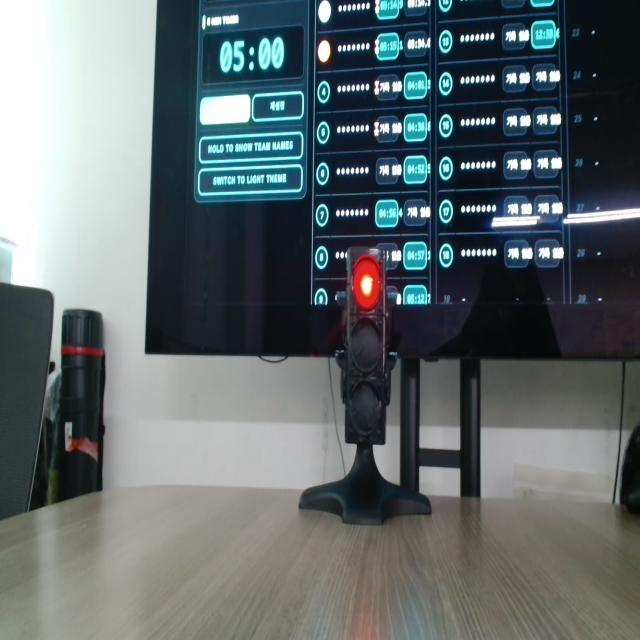red_light: (353, 256, 380, 311)
